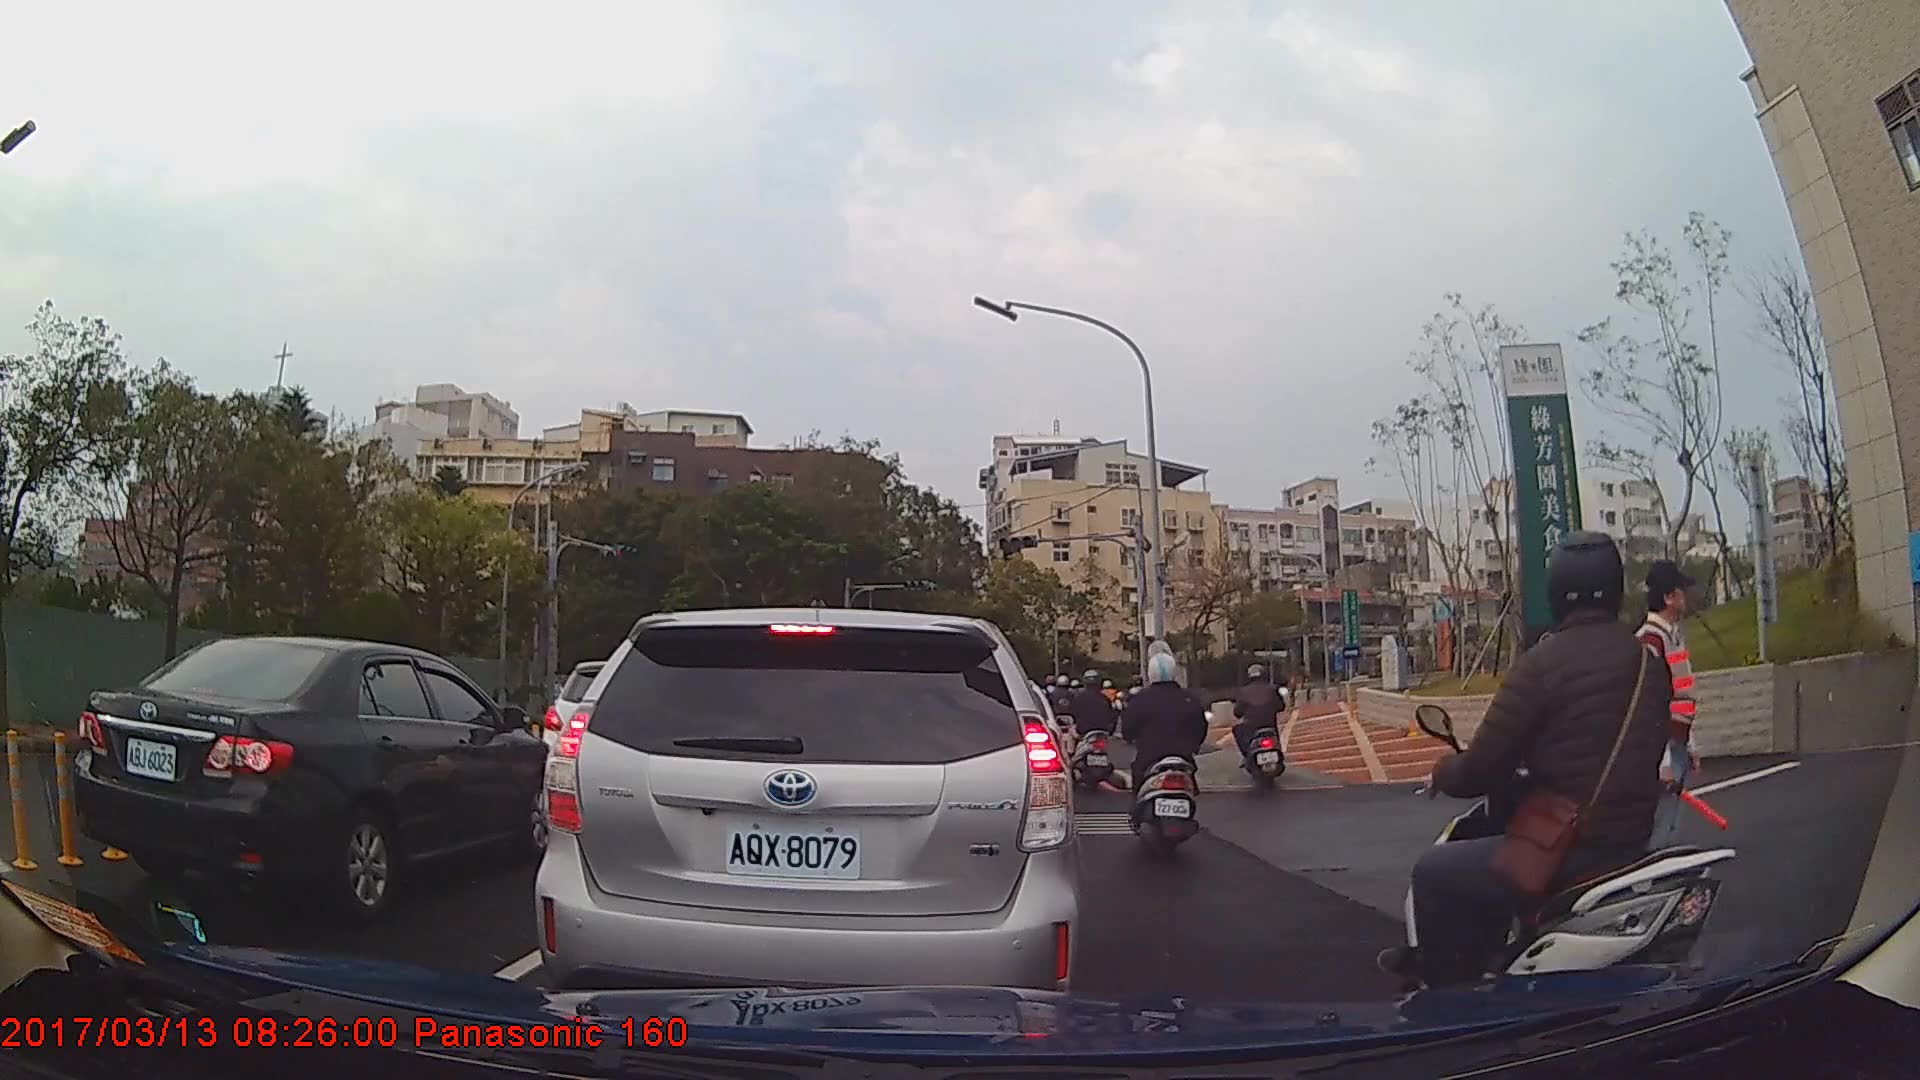pedestrian: (1626, 557, 1715, 941)
rider: (1386, 528, 1737, 1048), (1121, 649, 1217, 870), (1230, 663, 1290, 789), (1068, 669, 1120, 795)
vehicle: (535, 604, 1082, 1042), (71, 633, 562, 922)
